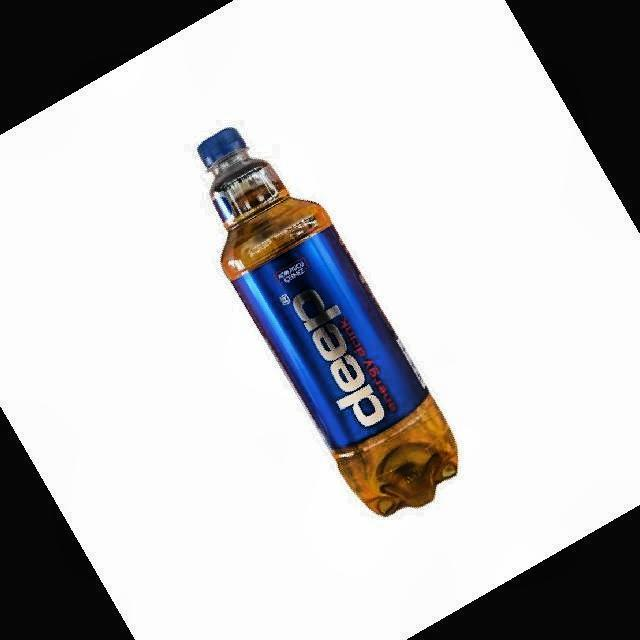plastic: (198, 129, 458, 516)
